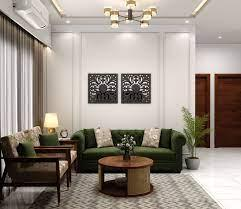chair: (0, 133, 71, 206), (22, 125, 80, 176)
clock: (60, 128, 70, 138)
door: (217, 77, 241, 146), (195, 74, 209, 147)
light: (98, 0, 165, 33), (42, 114, 62, 136), (61, 18, 73, 26), (182, 18, 192, 25), (215, 33, 223, 40)
sofa: (71, 125, 183, 173)
table: (97, 154, 158, 198)
